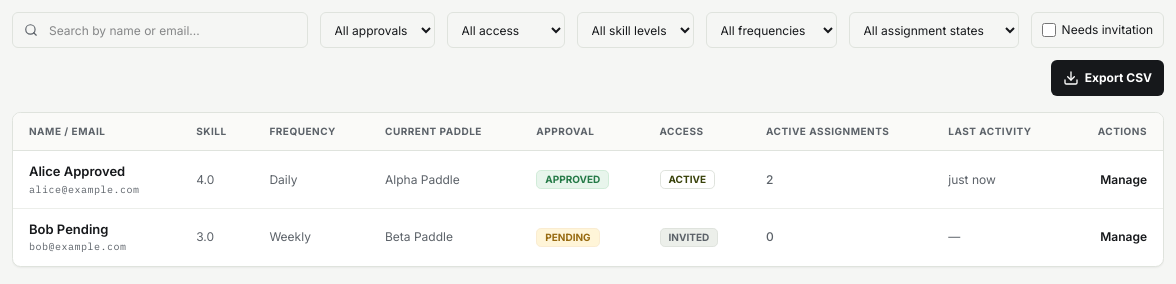
Test case: TesterDirectoryTable (Sprint 1 revision, Step 5) › filters by approval status independently of search
The image size is (1176, 284).
Select "Pending" in the 1st dropdown at (377, 30), box [320, 12, 435, 48]
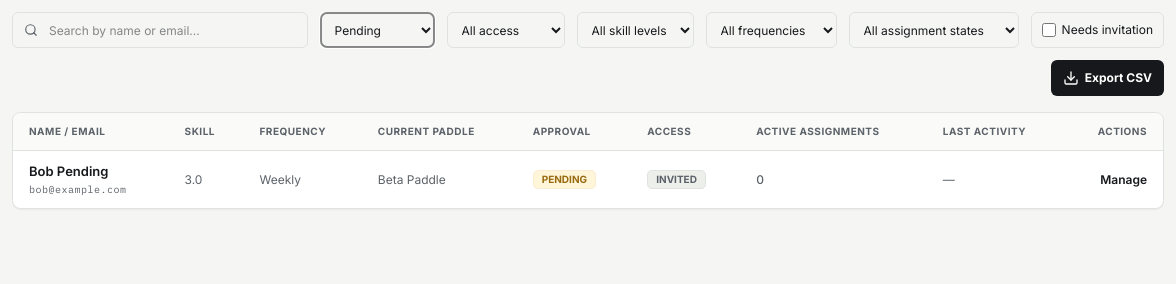
Check: the text "Bob Pending" is shown, box [29, 163, 108, 179]
Check: the text "Alice Approved" is gone
